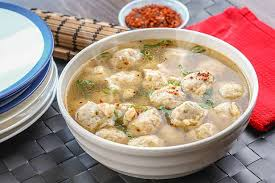bakso: (78, 45, 246, 151)
